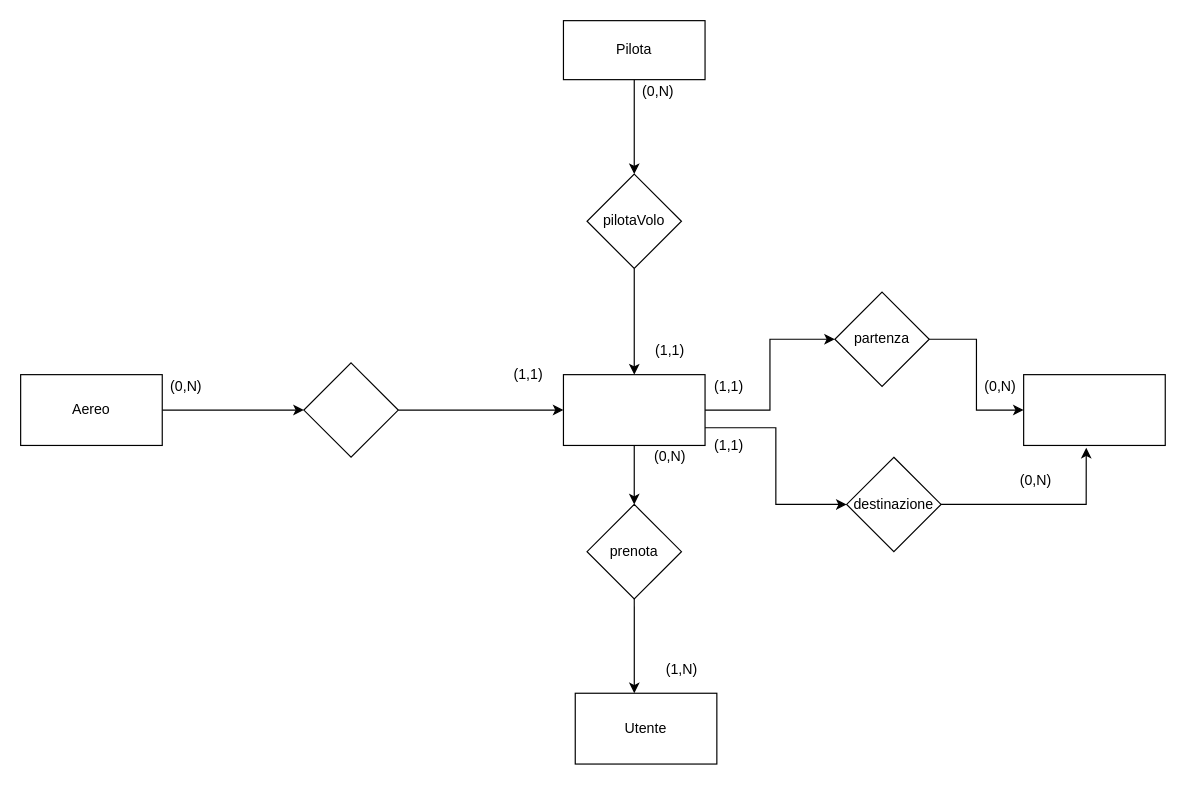
Image size: 1186x785. Some labels were removed from this diagram. Each missing label, with the centre of its shape:
Aereoporto: [1093,409]
utilizza: [350,409]
Volo: [633,409]
